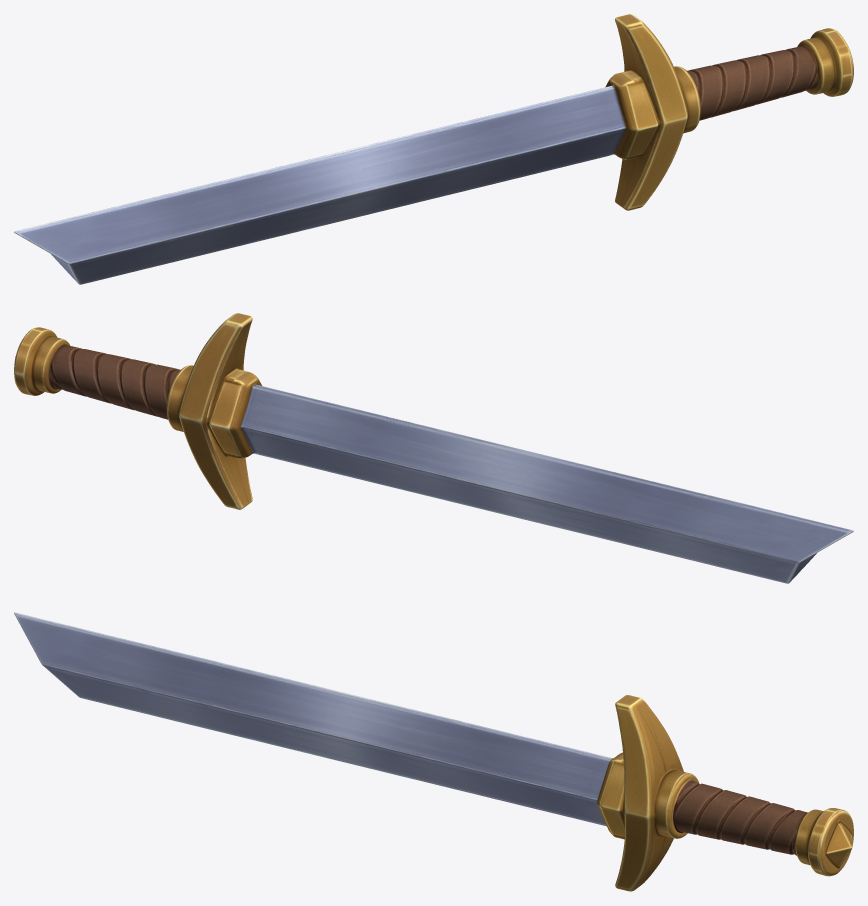
The model's file is Meshy_AI_Golden_Vanguard_Sword_0919220910_texture.fbx.
The picture shows the model from 3 angles, top to bottom: view 1: azimuth 30°, elevation 25°; view 2: azimuth 150°, elevation 25°; view 3: azimuth 330°, elevation 25°; orthographic projection.
Parts seen in each view (by area): view 1: Mesh_0; view 2: Mesh_0; view 3: Mesh_0.
Boxes of the visible parts, x1,y1,x2,y2 form: Mesh_0: (14,14,853,284); Mesh_0: (14,313,853,583); Mesh_0: (14,612,853,891).
Size of the model in its own units: 376 by 80 by 30.96.
Materials: 1 (1 with a texture image).
